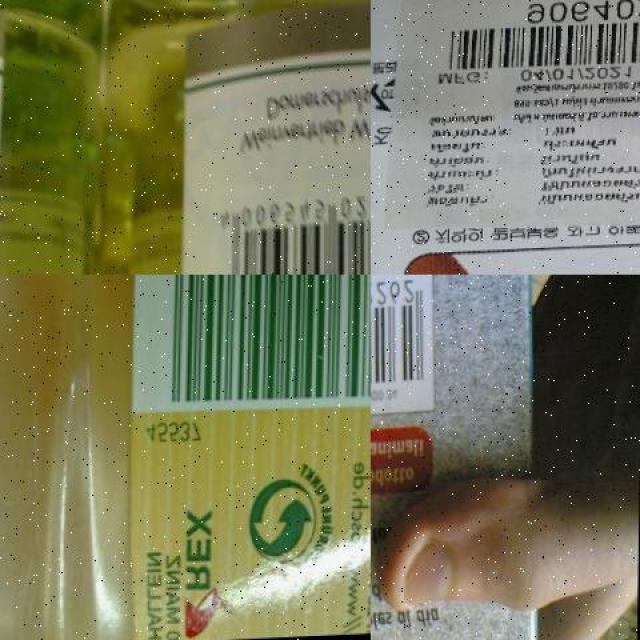Barcode: (130, 275, 370, 416), (434, 0, 640, 80), (209, 181, 371, 275), (371, 275, 437, 428)
